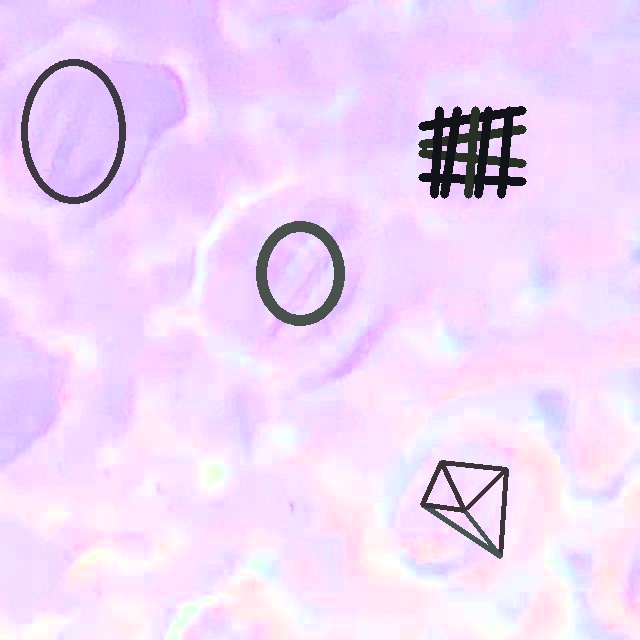close: (420, 461, 507, 558)
open: (20, 60, 126, 203), (418, 106, 526, 197), (256, 221, 343, 325)
